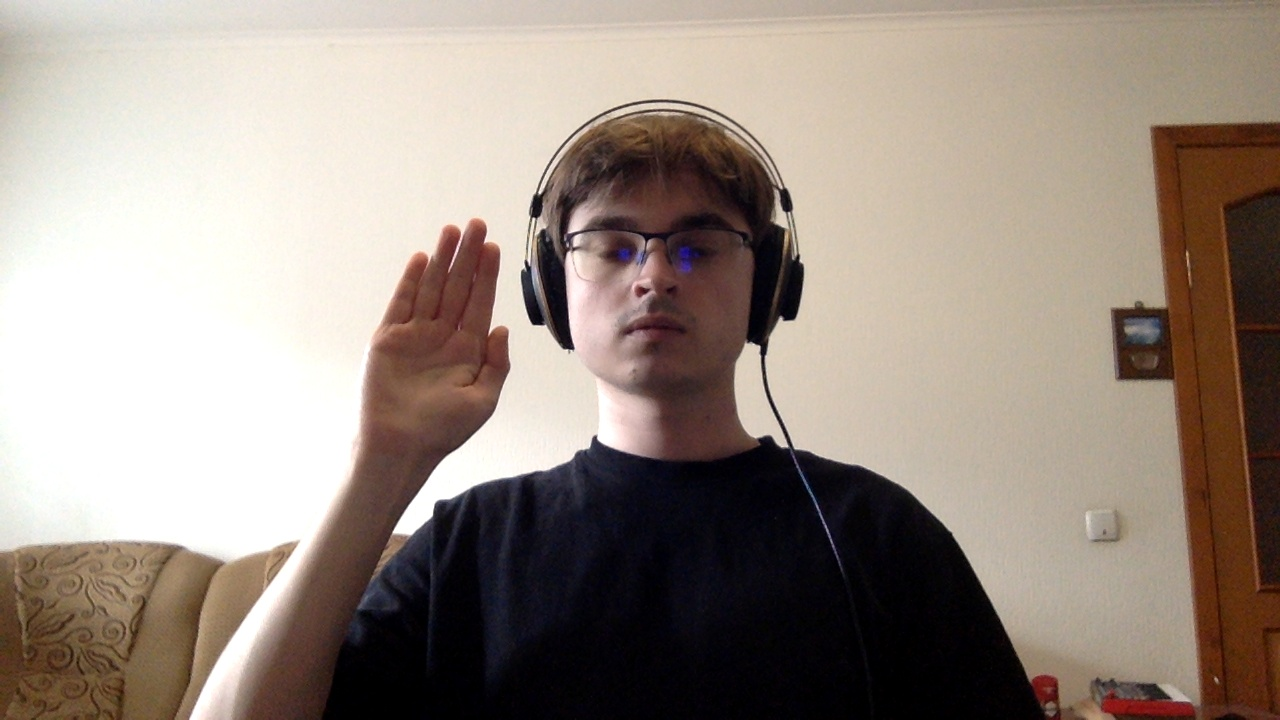hello: (325, 203, 541, 466)
